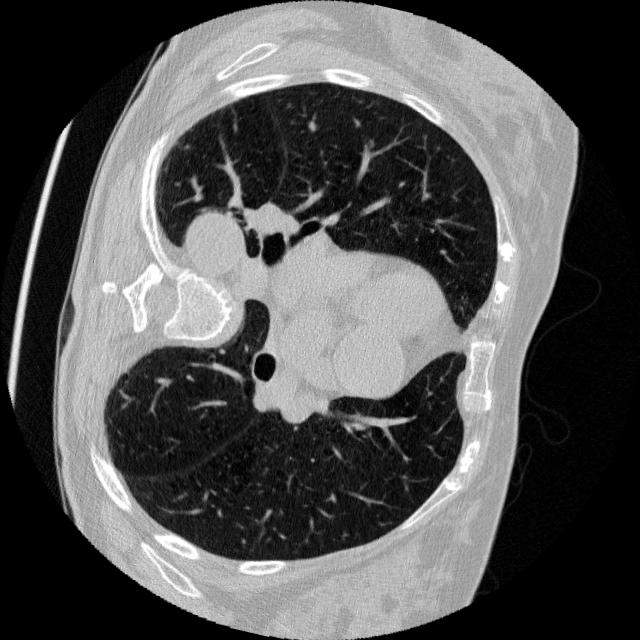nodule: (299, 114, 325, 140)
